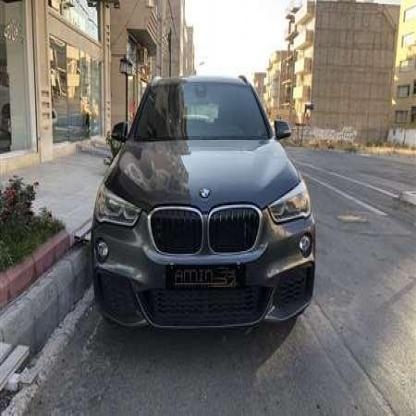Car: (92, 72, 317, 336)
